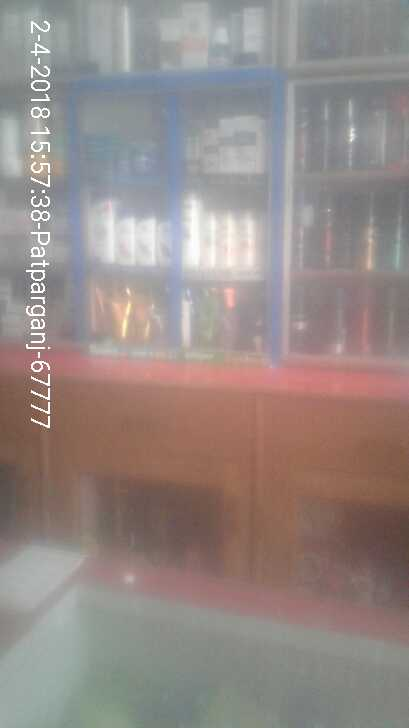vicks: (135, 141, 159, 174), (118, 146, 135, 174)
